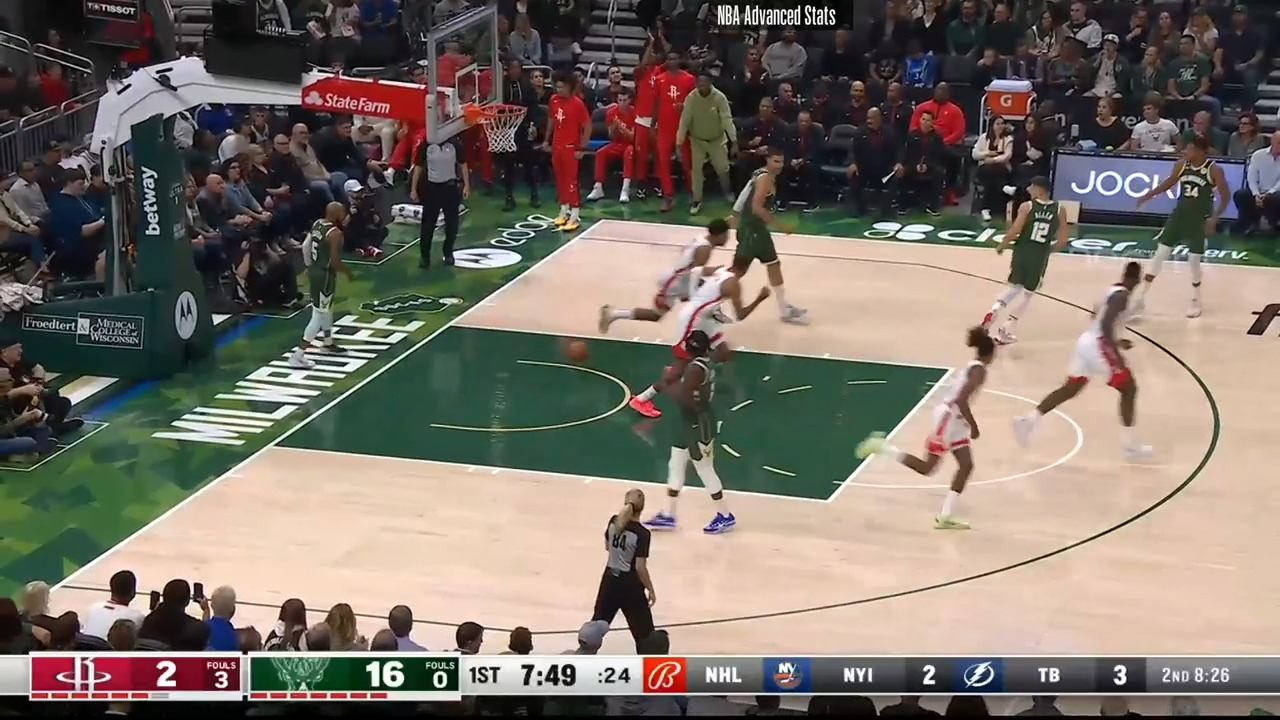net: (459, 98, 530, 156)
player: (853, 327, 1004, 535), (1021, 258, 1166, 460), (628, 246, 774, 420), (628, 328, 742, 539), (600, 215, 745, 342), (1128, 138, 1227, 324), (972, 174, 1065, 347), (717, 150, 803, 329), (282, 198, 357, 373)
referee: (582, 487, 671, 653), (413, 120, 469, 282)
